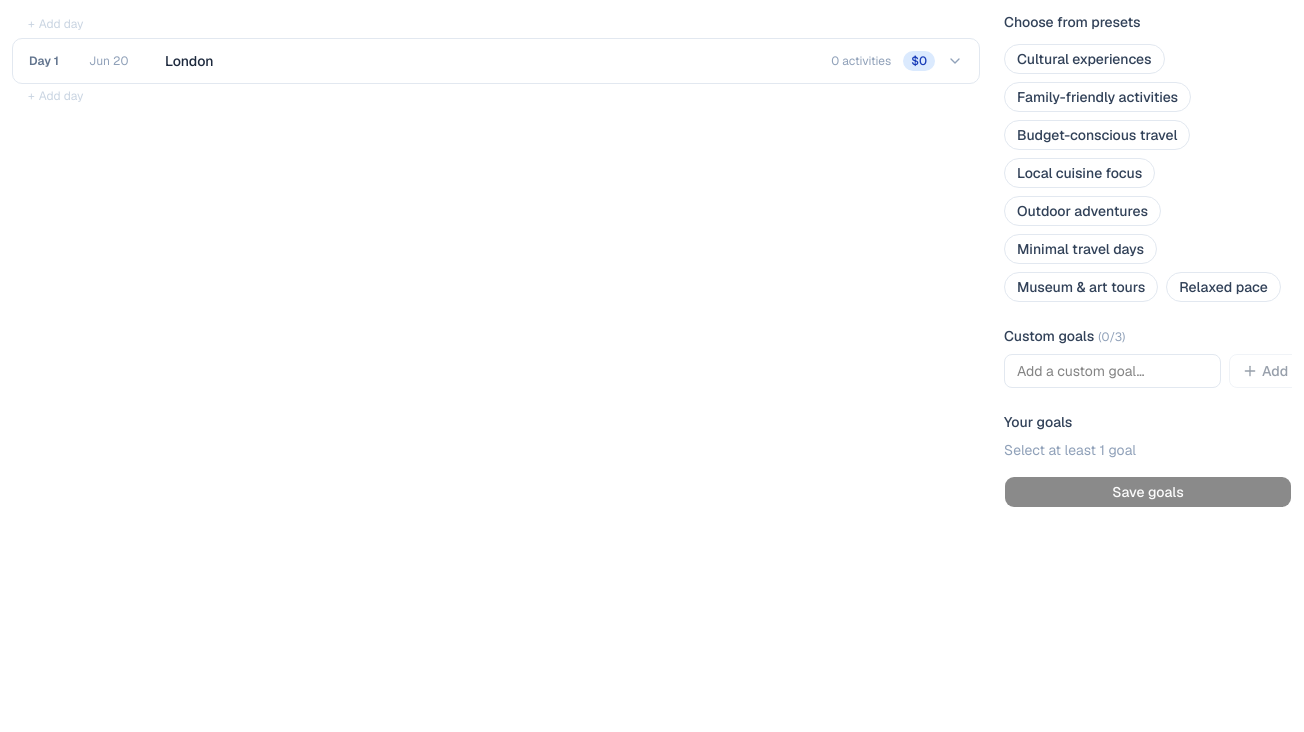
it: goalError — exact message text › shows the exact error string when save fails
The width and height of the screenshot is (1304, 732).
Expected: the text "Choose from presets" is shown, [1004,13,1141,31]
Click the button "Cultural experiences" at (1084,59), box [1004,44,1165,74]
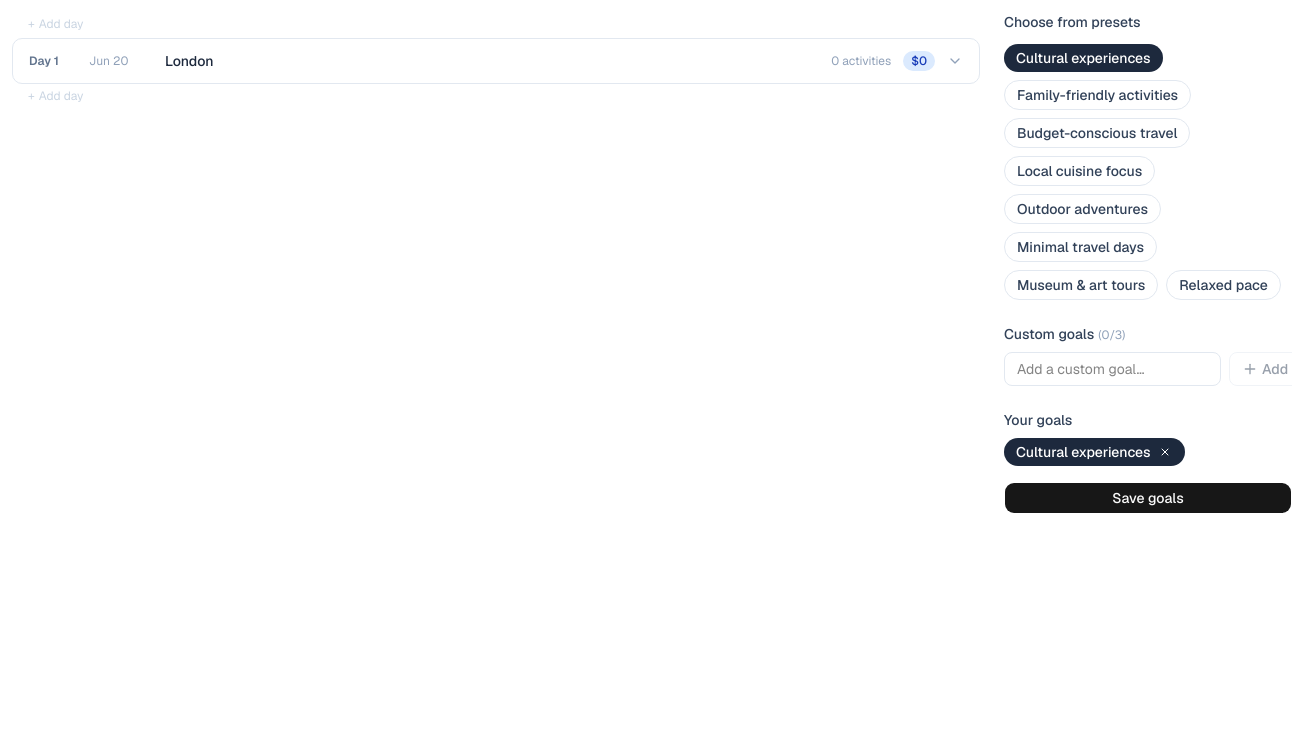
Click the button "Save goals" at (1148,498), box [1004,482,1292,514]
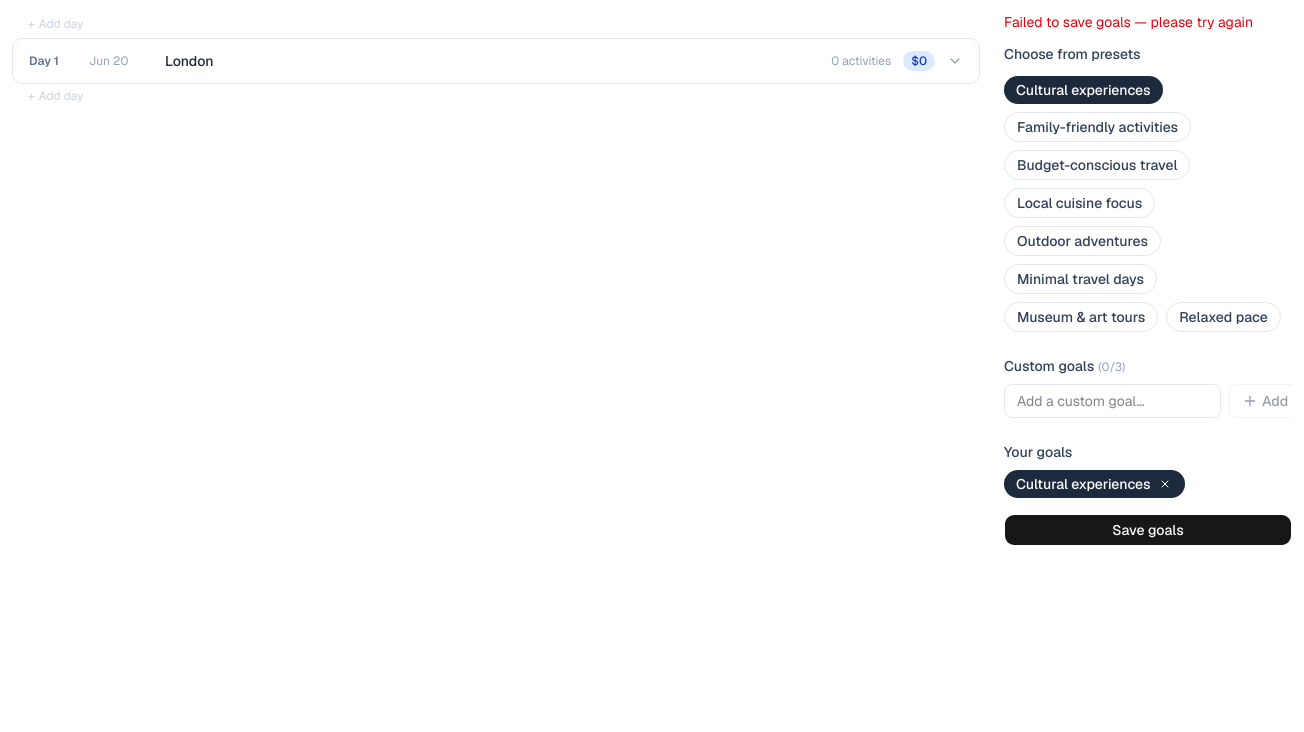
Expected: the text "Failed to save goals — please try again" is shown, [1004,12,1292,32]
